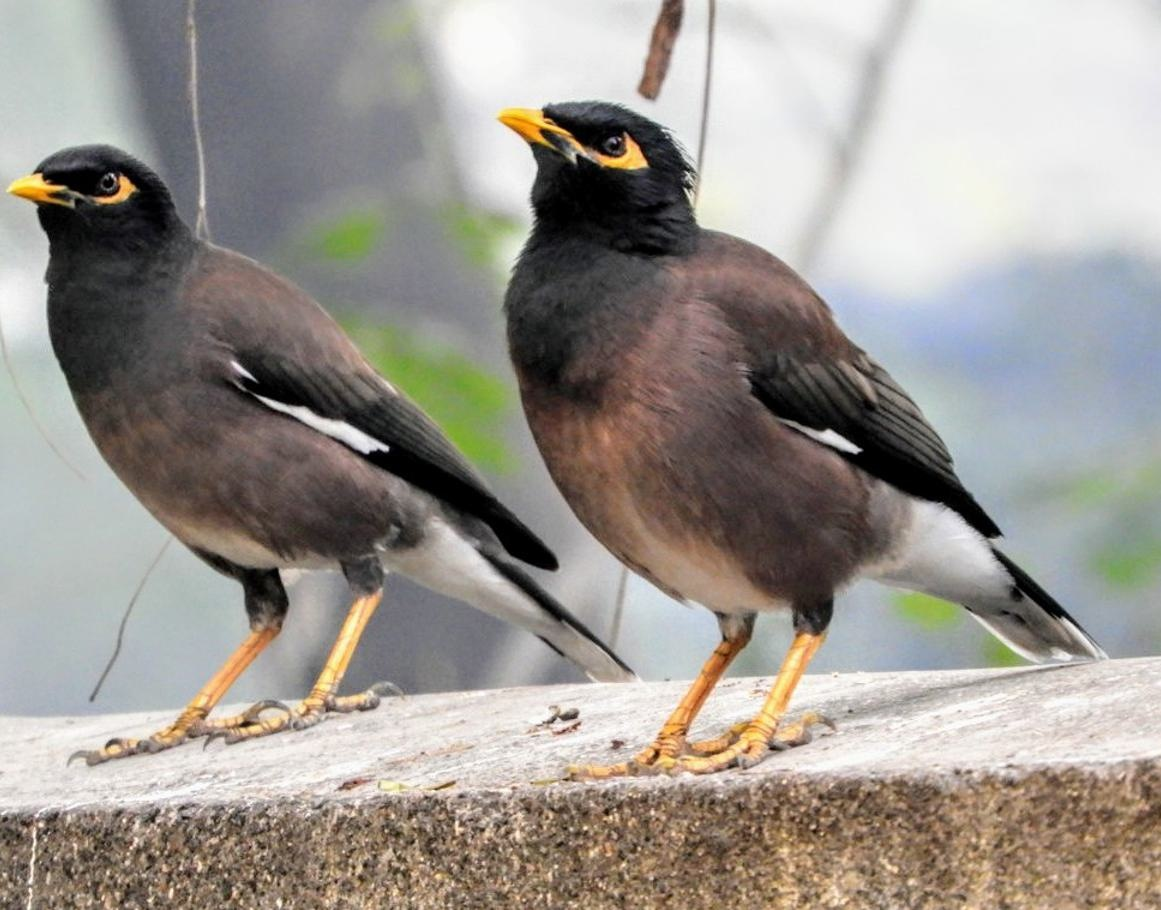myna: (498, 89, 1119, 740), (10, 121, 495, 749)
